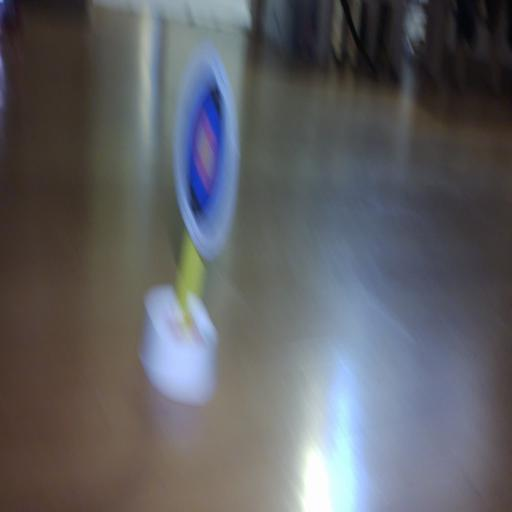target: (173, 42, 239, 260)
